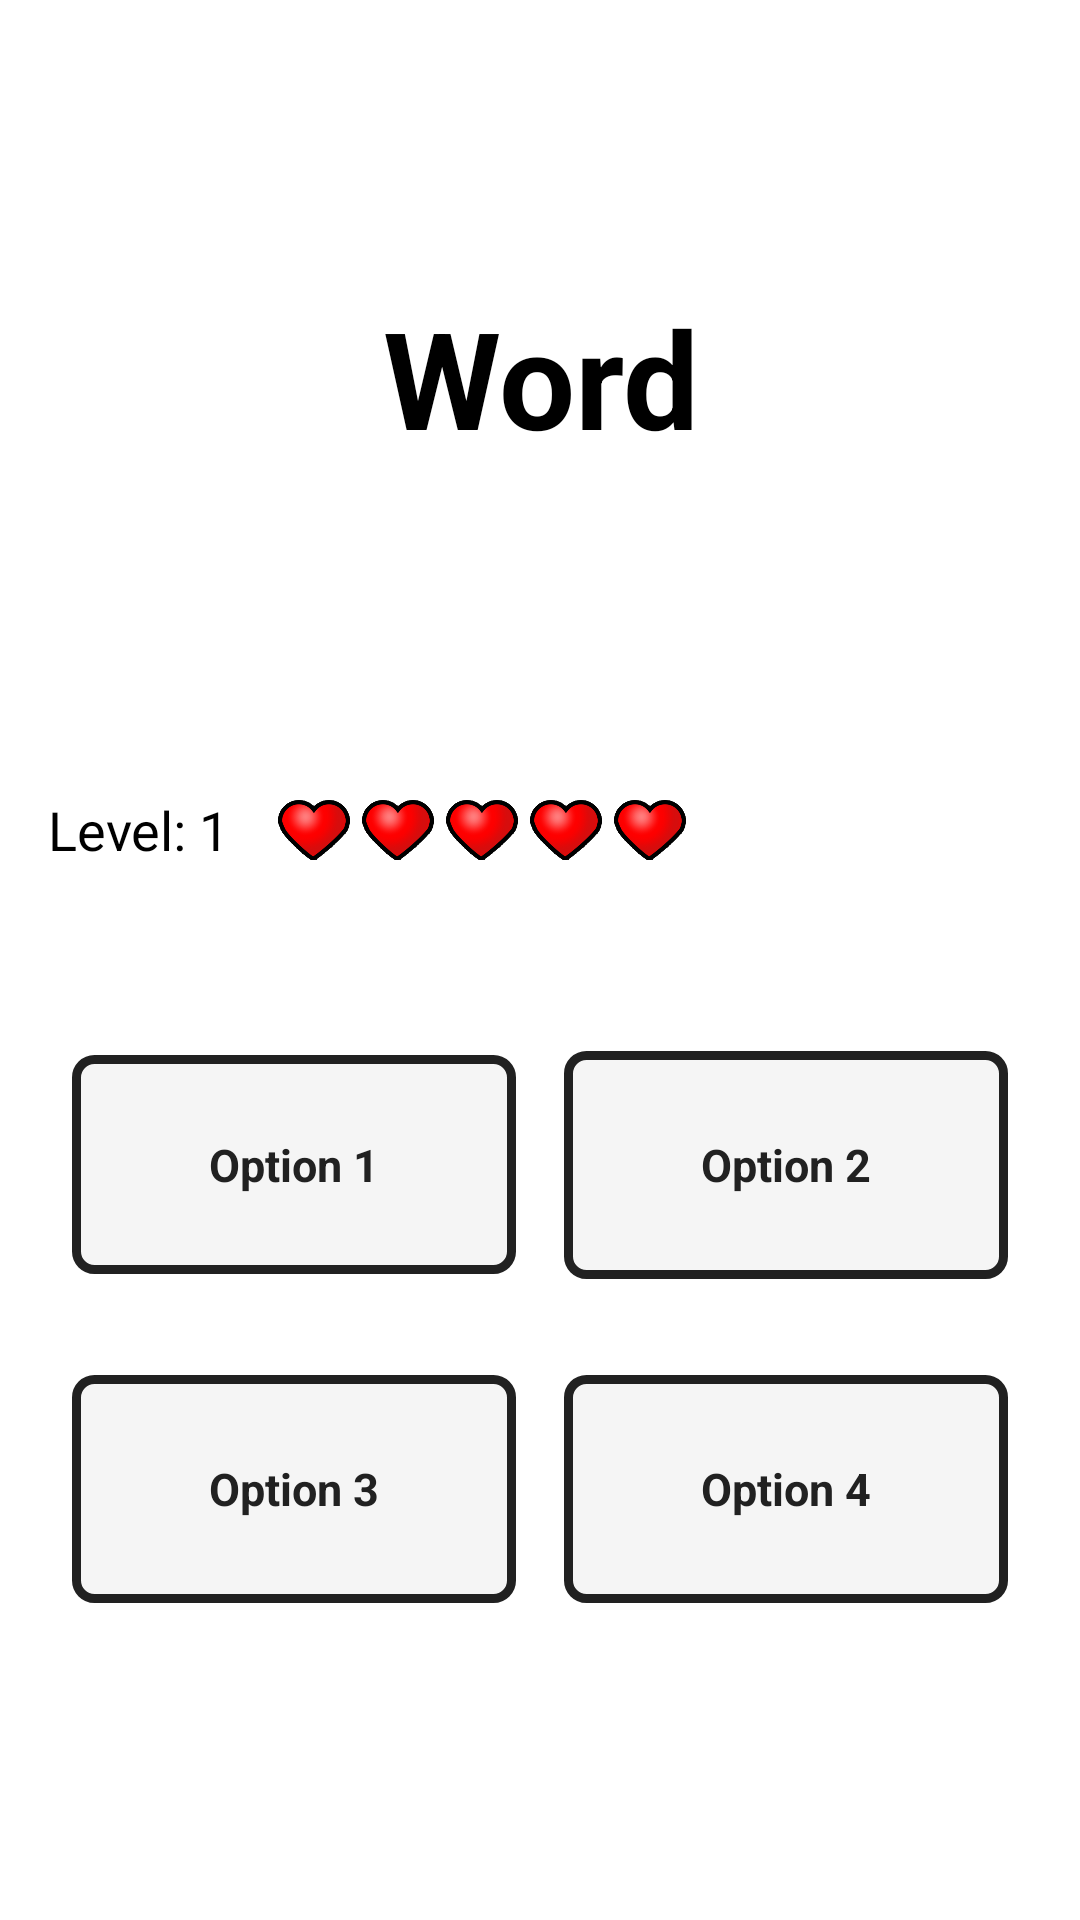

Icons on this 1080 × 1920 Android screen, each with the point to tap as [x,y]:
full life: [314,830], [398,830], [482,830], [566,830], [650,830]
